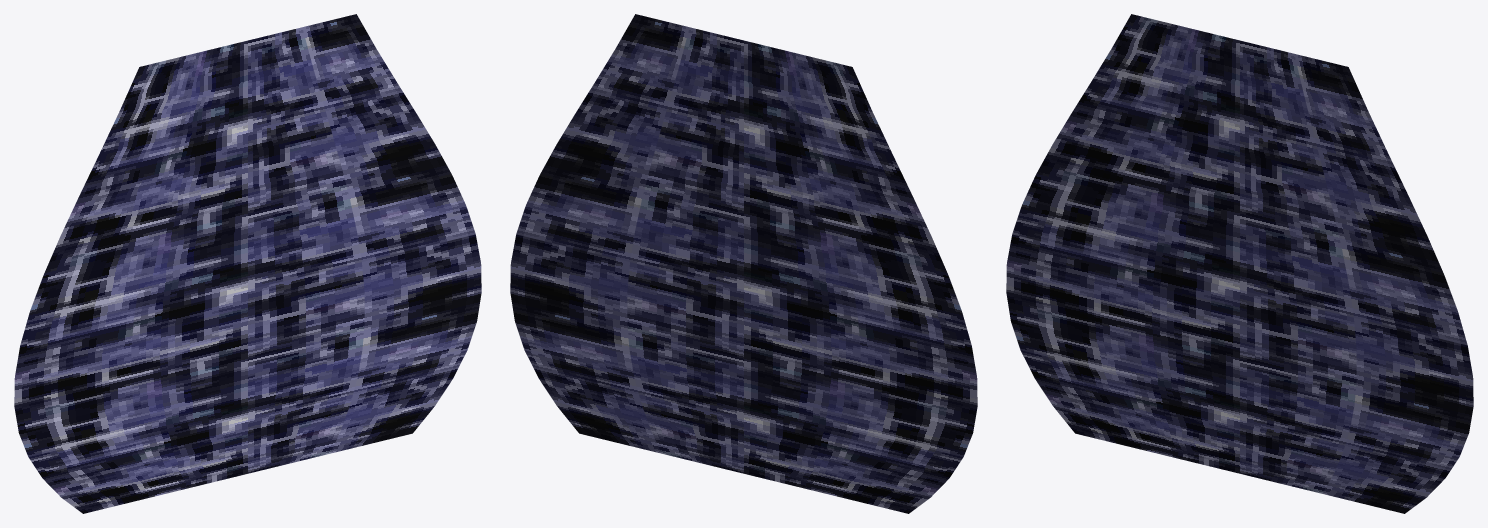
The model's file is pref_fxui_changeskin_flicker.fbx.
3 views of the same model, side by side, from view 1: azimuth 30°, elevation 25°; view 2: azimuth 150°, elevation 25°; view 3: azimuth 330°, elevation 25° (orthographic).
Visible parts, largest first — view 1: role; view 2: role; view 3: role.
Part boxes in pixels (<box>): role: <box>14,14,481,513</box>; role: <box>510,14,977,513</box>; role: <box>1006,14,1473,513</box>.
Size of the model in its own units: 533 by 472 by 0.000472.
1 material, 1 textured.
